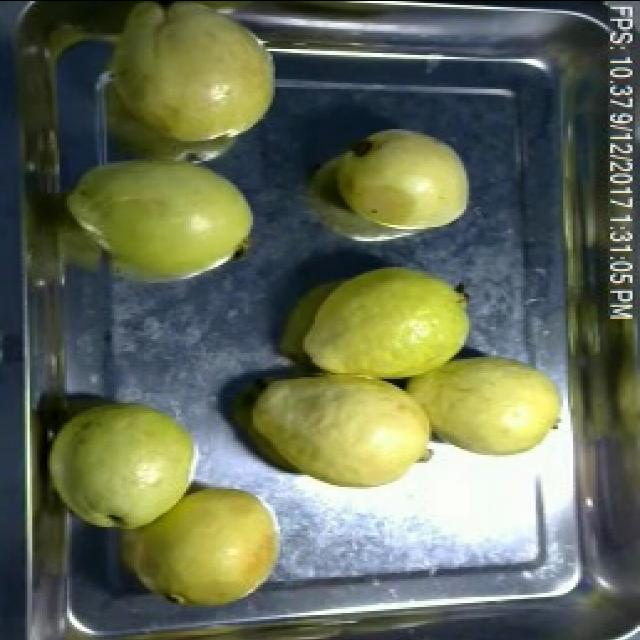Fruit: (59, 142, 263, 294), (99, 0, 285, 154), (230, 374, 447, 504), (109, 474, 293, 618), (290, 254, 484, 382), (38, 390, 208, 536), (404, 344, 578, 472), (325, 122, 479, 242)
